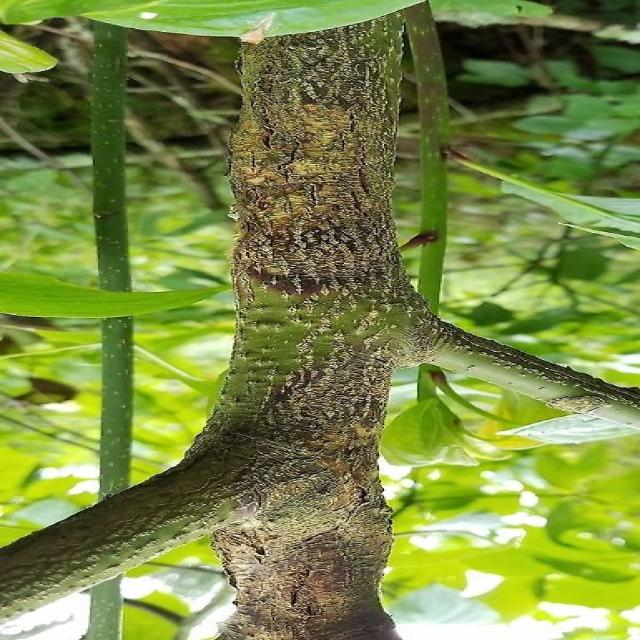Golden_canker: (3, 1, 635, 636)
